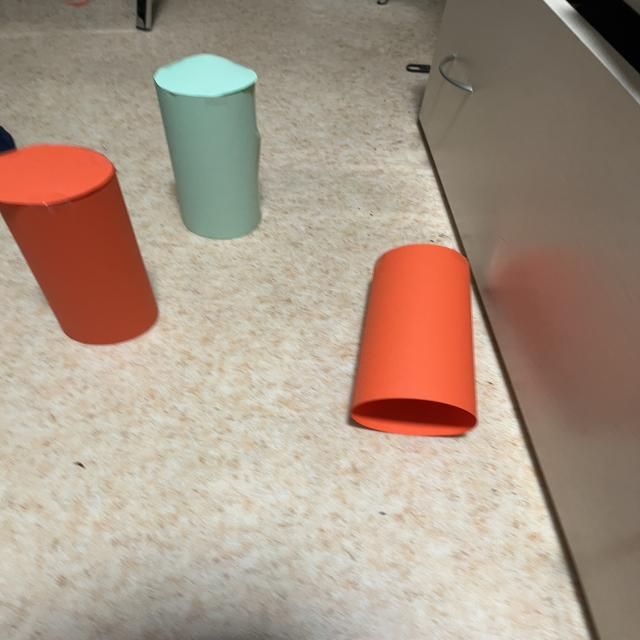meta: (153, 54, 261, 238)
przeszkoda: (0, 144, 157, 344), (351, 244, 476, 435)
